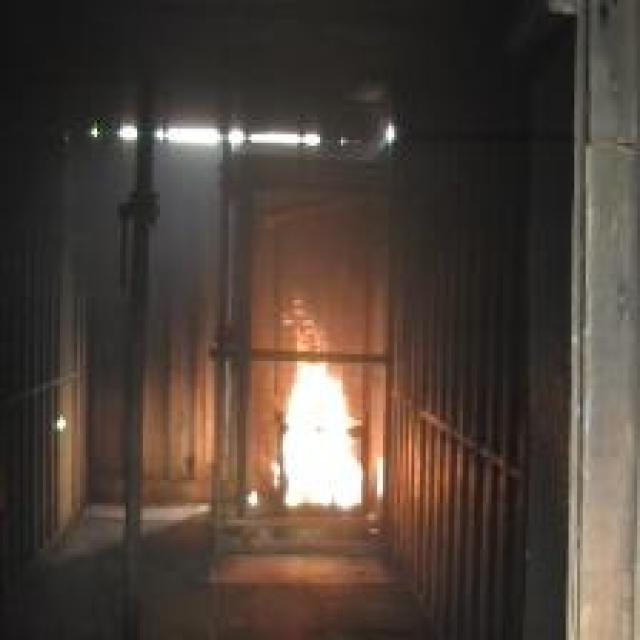Fire: (278, 300, 364, 509)
